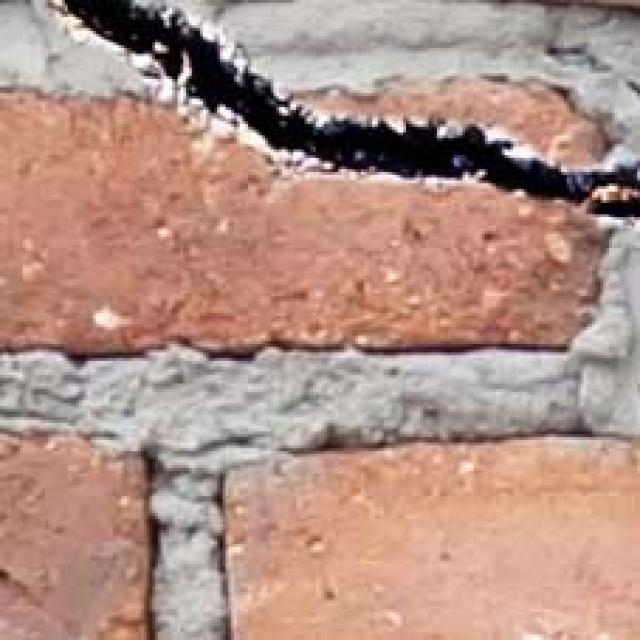Crack: (19, 0, 640, 263)
